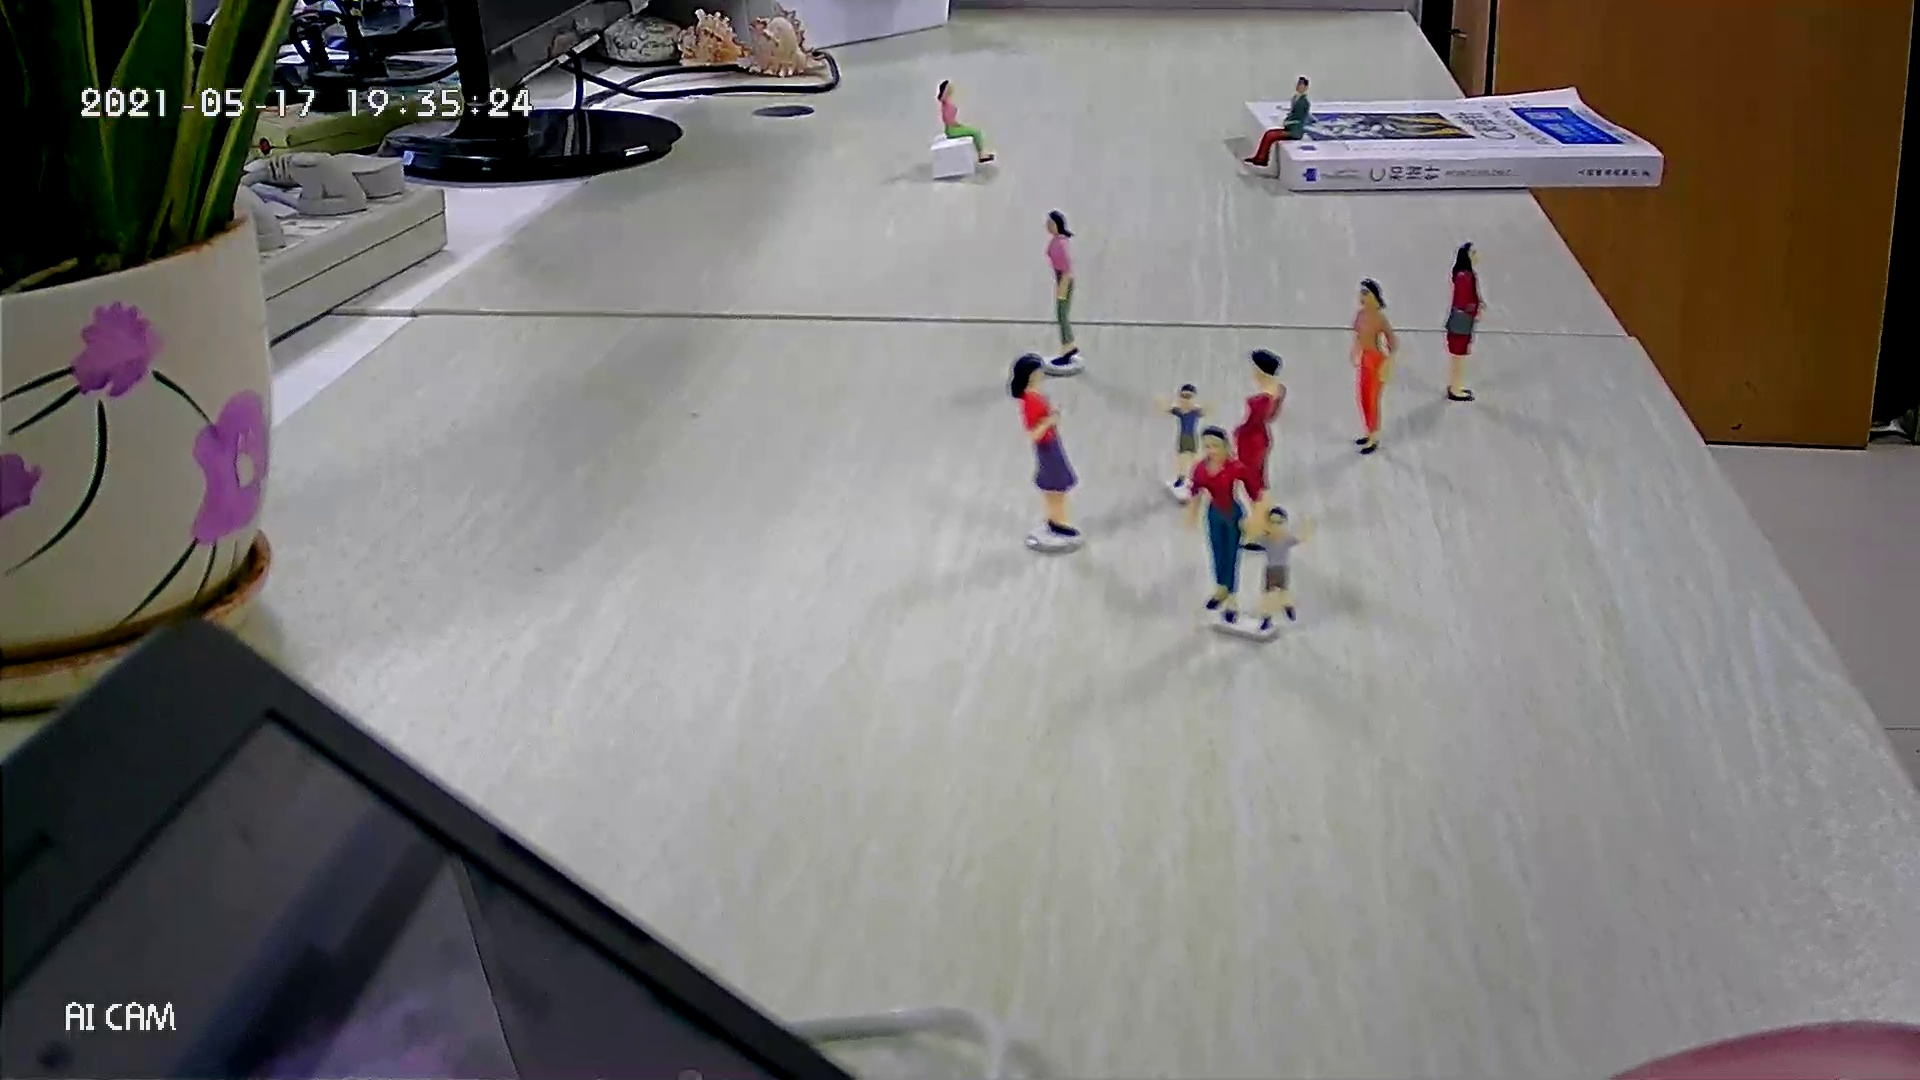person: (1184, 425, 1260, 626), (1004, 352, 1085, 537), (1230, 346, 1289, 553), (1347, 278, 1399, 456), (1239, 505, 1313, 631), (1440, 238, 1489, 403), (1147, 381, 1217, 490), (1239, 75, 1314, 168), (1040, 207, 1082, 367), (935, 78, 997, 165)
